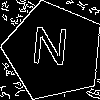N: (29, 26, 70, 76)
